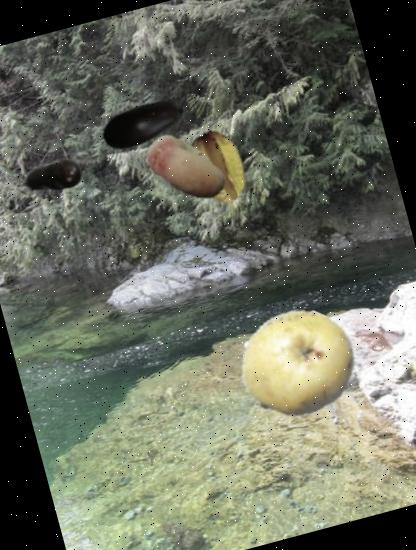Carambula: (172, 121, 265, 214)
Eggplant: (90, 70, 198, 178), (13, 138, 92, 216)
Peach: (134, 116, 240, 222)
Pear: (228, 296, 366, 434)
